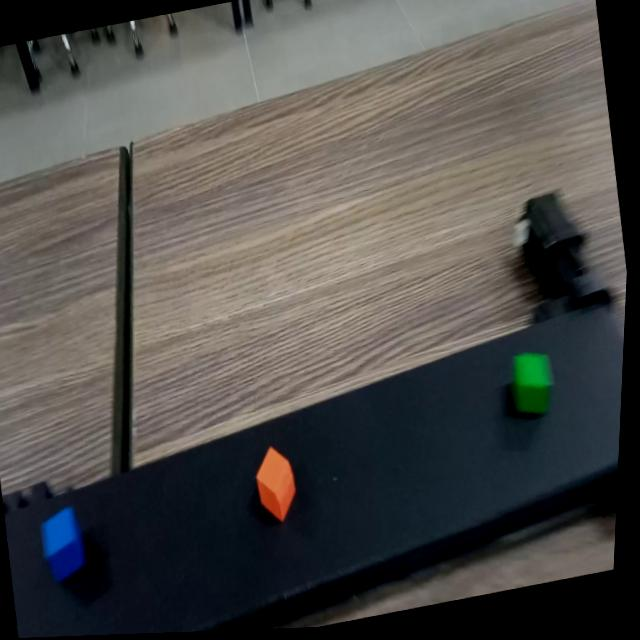cube: (35, 495, 109, 591), (497, 341, 571, 432)
